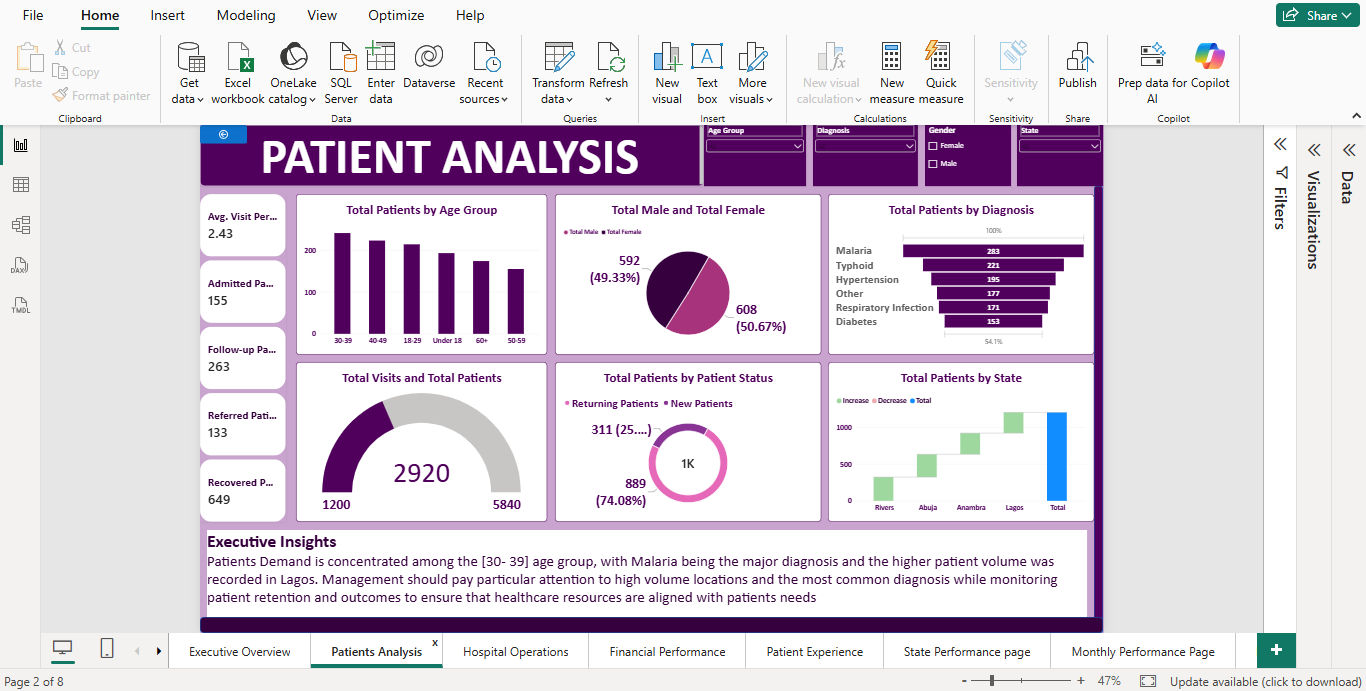

This screenshot's page, from the dashboard's own definition file:
{"tool":"powerbi","page":{"name":"Patients Analysis","canvas":[1920,1080],"ordinal":1},"visuals":[{"type":"textbox","box":[0,0,1071.5,129.7],"z":0},{"type":"columnChart","fields":{"Category":["Patient_Visits.Age Group"],"Y":["All Measures.Total Patients"]},"box":[204.1,146.7,533.6,342.3],"z":1000},{"type":"pieChart","fields":{"Y":["All Measures.Total Male","All Measures.Total Female"]},"box":[754.7,146.7,565.5,342.3],"z":2000},{"type":"funnel","fields":{"Category":["Patient_Visits.Diagnosis"],"Y":["All Measures.Total Patients"]},"box":[1335.1,146.7,565.5,342.3],"z":3000},{"type":"shape","box":[1900.6,129.7,19.1,950.3],"z":4000},{"type":"waterfallChart","fields":{"Category":["Patient_Visits.State"],"Y":["All Measures.Total Patients"]},"box":[1335.1,503.9,565.5,340.2],"z":5000},{"type":"donutChart","fields":{"Category":["Patient_Visits.Patient Status"],"Y":["All Measures.Total Patients"]},"box":[754.7,503.9,565.5,340.2],"z":6000},{"type":"gauge","fields":{"MinValue":["All Measures.Total Patients"],"Y":["All Measures.Total Visits"]},"box":[204.1,503.9,533.6,340.2],"z":7000},{"type":"actionButton","box":[0,0,100,40],"z":8000},{"type":"slicer","fields":{"Values":["Patient_Visits.Age Group"]},"box":[1071.5,0,216.9,129.7],"z":9000},{"type":"slicer","fields":{"Values":["Patient_Visits.Diagnosis"]},"box":[1303.2,0,223.2,129.7],"z":10000},{"type":"cardVisual","fields":{"Data":["All Measures.Avg. Visit Per Patients","All Measures.Admitted Patients","All Measures.Follow-up Patients","All Measures.Referred Patients","All Measures.Recovered Patients"]},"box":[0,146.7,182.8,697.3],"z":11000},{"type":"slicer","fields":{"Values":["Patient_Visits.Gender"]},"box":[1541.3,0,182.8,129.7],"z":12000},{"type":"slicer","fields":{"Values":["Patient_Visits.State"]},"box":[1736.9,0,182.8,129.7],"z":13000},{"type":"textbox","box":[14.9,861,1870.9,185],"z":14000},{"type":"shape","box":[0,1046,1919.8,34],"z":15000}]}

Visuals, with their boxes on the page's 1920x1080 design canvas (x1, y1, x2, y2). These are canvas units, not pixel positions in the 1366x691 screenshot, which may show the page scaled, cropped or inside an application window:
textbox: x1=0, y1=0, x2=1072, y2=130
columnChart - Patient_Visits.Age Group x All Measures.Total Patients: x1=204, y1=147, x2=738, y2=489
pieChart - All Measures.Total Male x All Measures.Total Female: x1=755, y1=147, x2=1320, y2=489
funnel - Patient_Visits.Diagnosis x All Measures.Total Patients: x1=1335, y1=147, x2=1901, y2=489
shape: x1=1901, y1=130, x2=1920, y2=1080
waterfallChart - Patient_Visits.State x All Measures.Total Patients: x1=1335, y1=504, x2=1901, y2=844
donutChart - Patient_Visits.Patient Status x All Measures.Total Patients: x1=755, y1=504, x2=1320, y2=844
gauge - All Measures.Total Patients x All Measures.Total Visits: x1=204, y1=504, x2=738, y2=844
actionButton: x1=0, y1=0, x2=100, y2=40
slicer - Patient_Visits.Age Group: x1=1072, y1=0, x2=1288, y2=130
slicer - Patient_Visits.Diagnosis: x1=1303, y1=0, x2=1526, y2=130
cardVisual - All Measures.Avg. Visit Per Patients x All Measures.Admitted Patients: x1=0, y1=147, x2=183, y2=844
slicer - Patient_Visits.Gender: x1=1541, y1=0, x2=1724, y2=130
slicer - Patient_Visits.State: x1=1737, y1=0, x2=1920, y2=130
textbox: x1=15, y1=861, x2=1886, y2=1046
shape: x1=0, y1=1046, x2=1920, y2=1080
